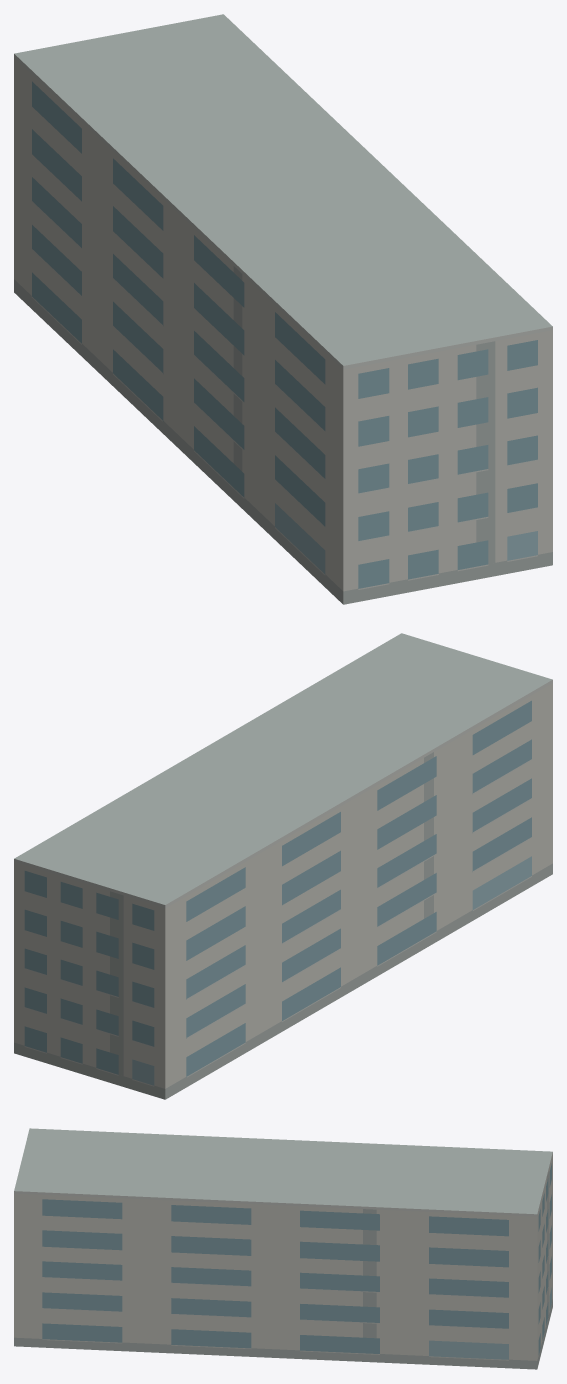
Rendered from residential-b5741e03-f8ab-4a62-a3f7-44da26646bb6.glb.
The picture shows the model from 3 angles, top to bottom: view 1: azimuth 30°, elevation 25°; view 2: azimuth 150°, elevation 25°; view 3: azimuth 270°, elevation 25°; orthographic projection. The views are drawn at different scales.
Visible parts, largest first — view 1: residential-b5741e03-f8ab-4a62-a3f7-44da26646bb6.tmp; view 2: residential-b5741e03-f8ab-4a62-a3f7-44da26646bb6.tmp; view 3: residential-b5741e03-f8ab-4a62-a3f7-44da26646bb6.tmp.
Boxes of the visible parts, x1,y1,x2,y2 form: residential-b5741e03-f8ab-4a62-a3f7-44da26646bb6.tmp: (14, 14, 552, 604); residential-b5741e03-f8ab-4a62-a3f7-44da26646bb6.tmp: (14, 633, 552, 1099); residential-b5741e03-f8ab-4a62-a3f7-44da26646bb6.tmp: (14, 1128, 552, 1369).
Size of the model in its own units: 18.1 by 15.25 by 47.98.
